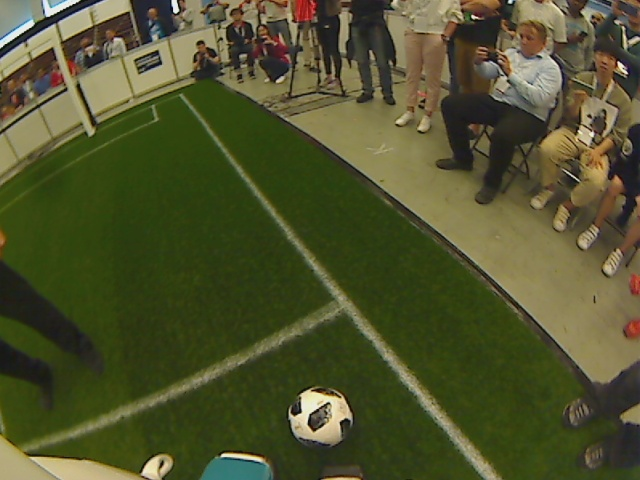ball: (287, 383, 356, 450)
